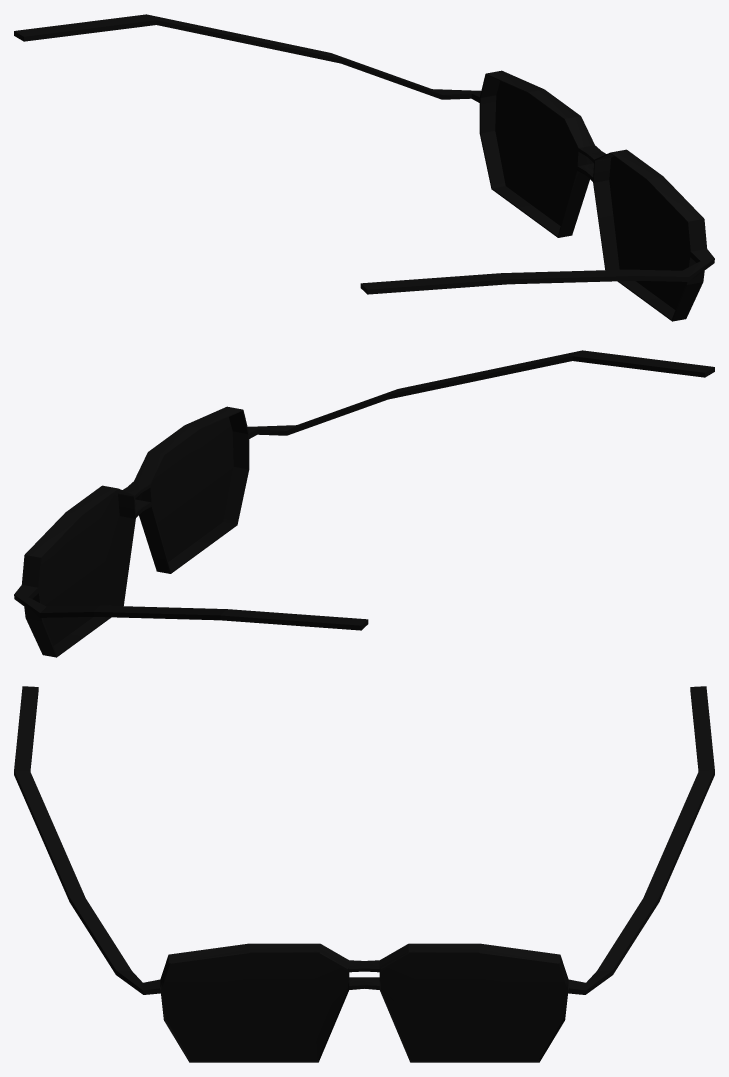
File: AVIATORS.fbx
3 renders of one model, top to bottom at view 1: azimuth 30°, elevation 25°; view 2: azimuth 150°, elevation 25°; view 3: azimuth 270°, elevation 25°, orthographic. The views are drawn at different scales.
Parts seen in each view (by area): view 1: AVIATORS; view 2: AVIATORS; view 3: AVIATORS.
Part boxes in pixels (x1,y1,x2,y2): AVIATORS: [14, 14, 714, 321]; AVIATORS: [14, 350, 714, 657]; AVIATORS: [14, 686, 714, 1062].
Size of the model in its own units: 17.29 by 7.65 by 26.25.
